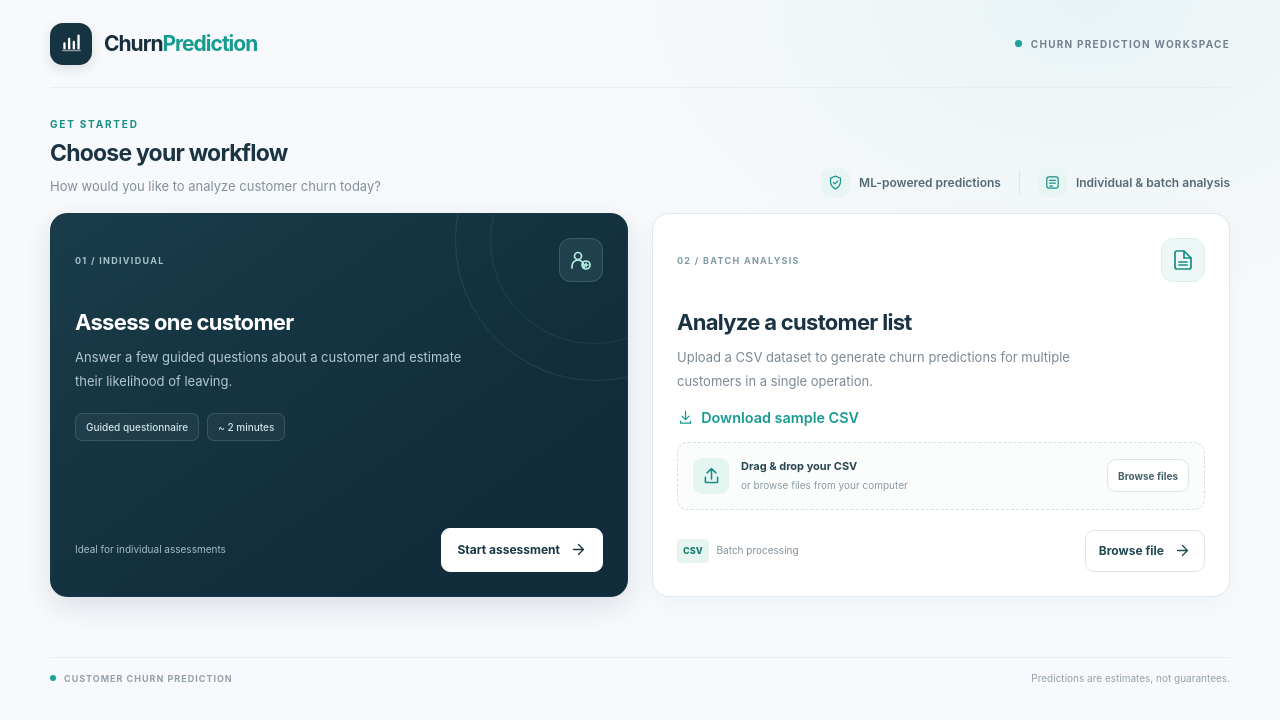
Test: App › workspace navigation › returns to the dashboard from the quiz using Back to workspace
What coordinates should you click on to do the following:
click the button "Start assessment"
I would click on:
 (522, 550)
Its box is [441, 528, 603, 572].
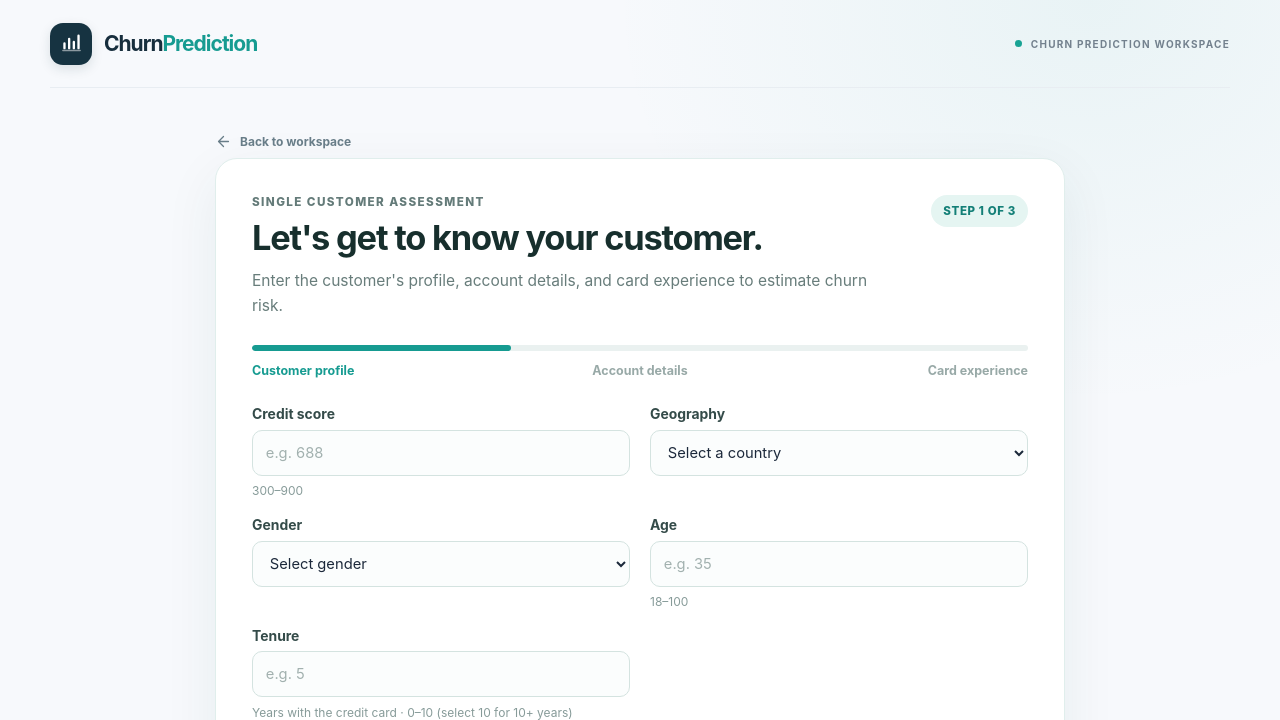
What coordinates should you click on to do the following:
click the button "Back to workspace"
I would click on:
 (283, 142)
Its box is [215, 125, 351, 158].
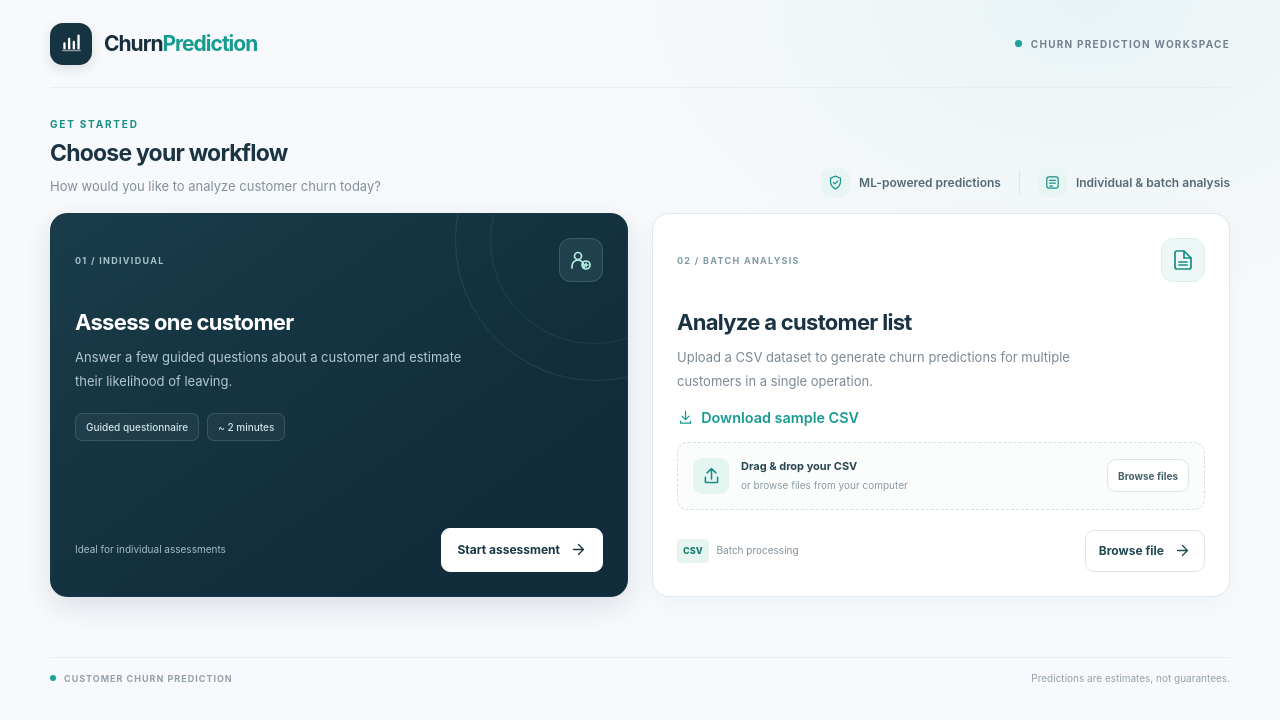
Result: the heading "Choose your workflow" is shown at [50, 139, 287, 167]
